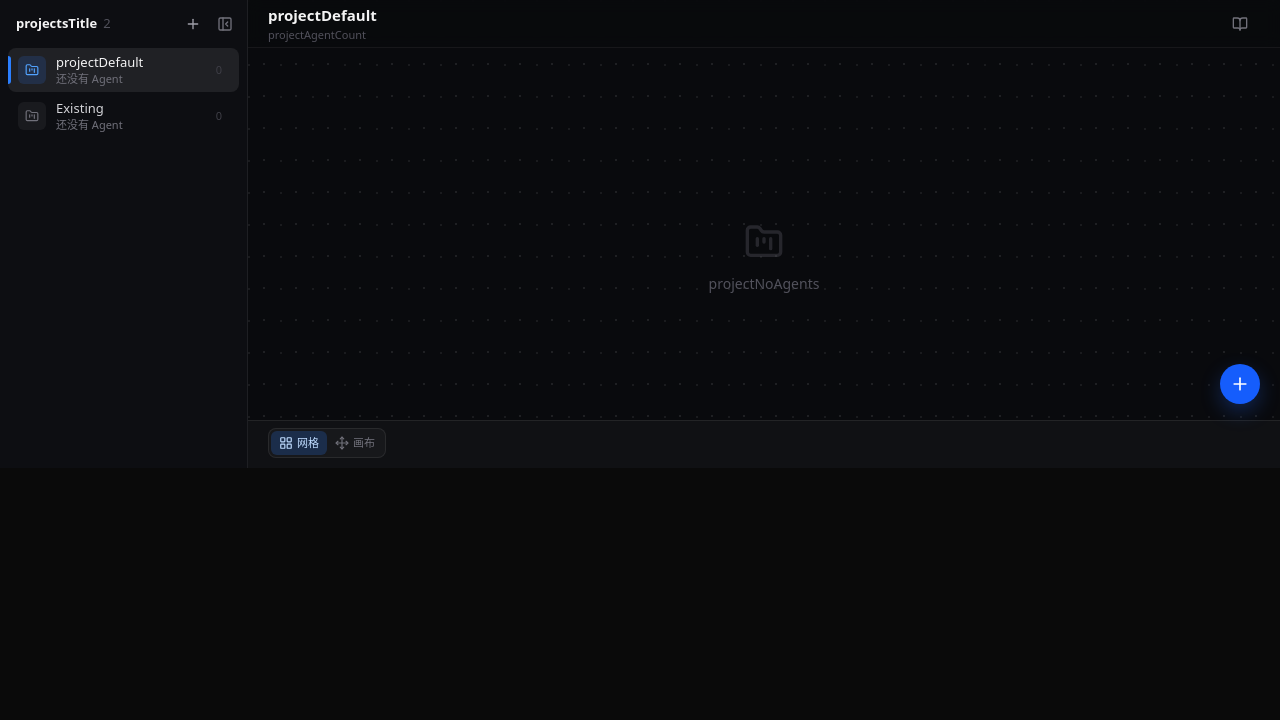
Test case: <ProjectsPanel /> project creation › preserves the name and shows an inline error when creation fails
This screenshot has width=1280, height=720.
Check: the text "projectDefault" is shown, box x1=56 y1=54 x2=143 y2=70
Click the button named "projectCreate": click(193, 24) x1=179 y1=10 x2=207 y2=38
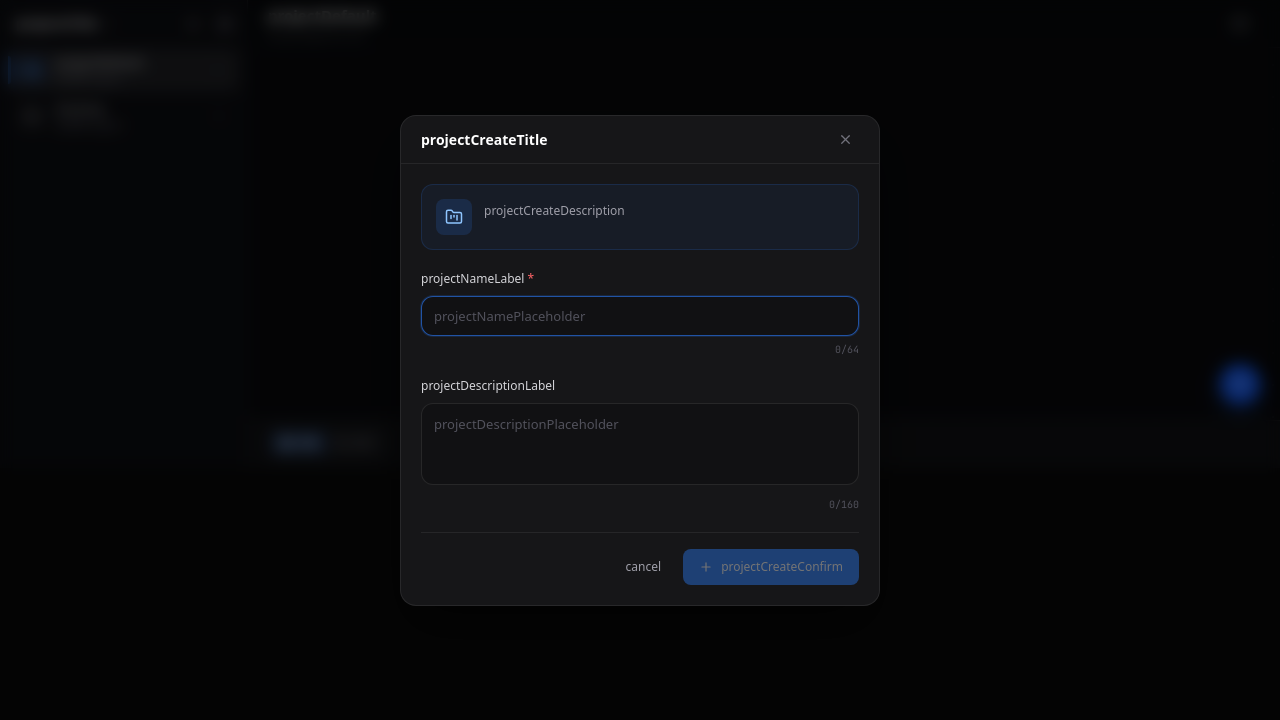
In the field labelled "projectNameLabel * 0/64": (640, 316) x1=421 y1=296 x2=859 y2=336, type "New project"
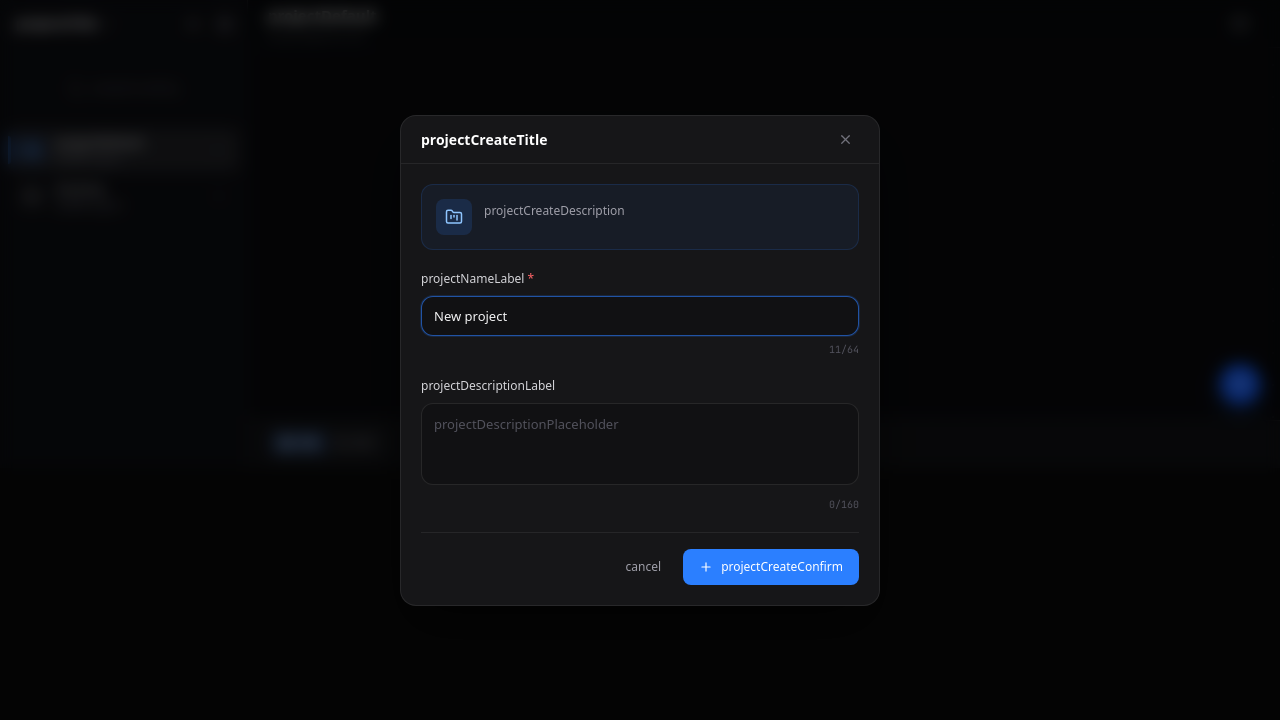
Press Enter in the field labelled "projectNameLabel * 11/64", box x1=421 y1=296 x2=859 y2=336
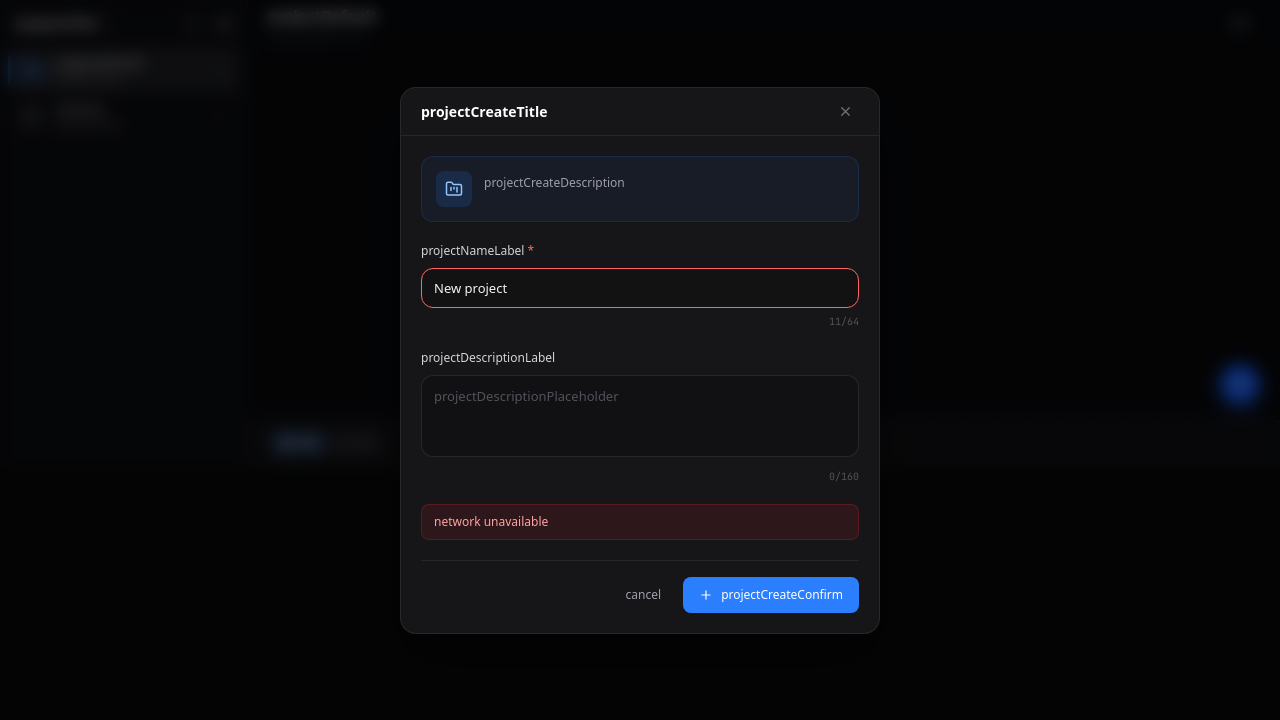
Check: the element that starts with "projectCreateDescription" is shown, box x1=421 y1=156 x2=859 y2=612
Check: the text "network unavailable" is shown, box x1=421 y1=504 x2=859 y2=540
